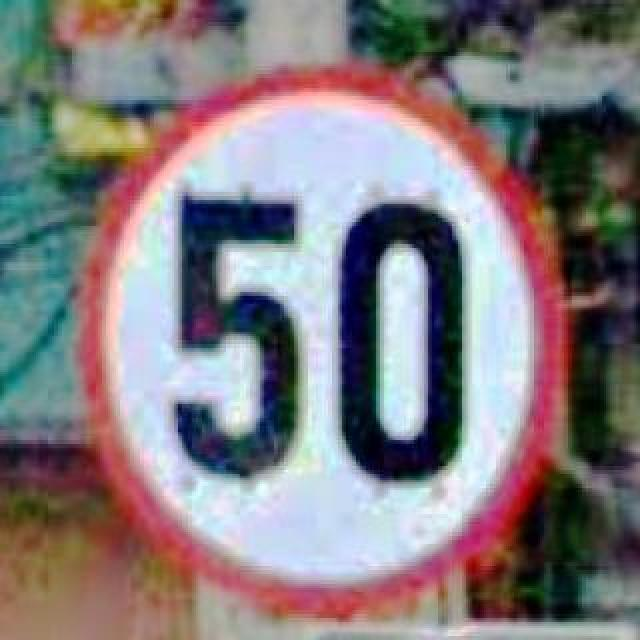50 kph: (78, 64, 558, 608)
